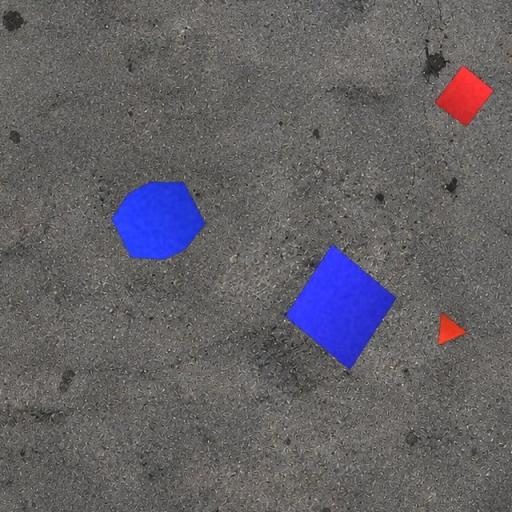BLUE_SQUARE: (285, 244, 397, 371)
RED_SQUARE: (434, 65, 494, 127)
